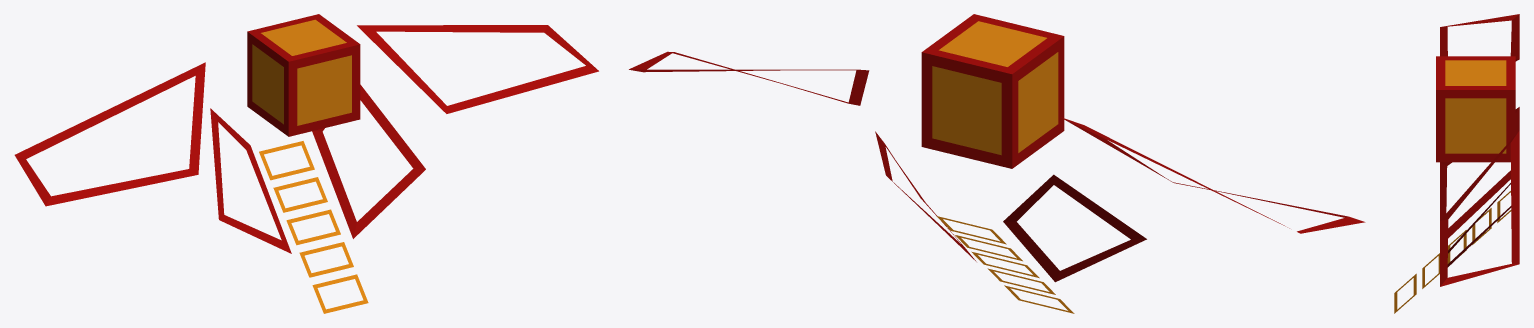
File: enemy1.FBX
The picture shows the model from 3 angles, left to right: view 1: azimuth 30°, elevation 25°; view 2: azimuth 150°, elevation 25°; view 3: azimuth 270°, elevation 25°; orthographic projection. The views are drawn at different scales.
Parts seen in each view (by area): view 1: Plane001, Box001, Object001; view 2: Box001, Plane001, Object001; view 3: Box001, Plane001, Object001.
Part boxes in pixels (box(x1,y1,x2,y2)): Plane001: box(14, 25, 598, 253); Box001: box(247, 14, 360, 136); Object001: box(259, 141, 368, 313); Box001: box(921, 14, 1064, 168); Plane001: box(629, 51, 1365, 282); Object001: box(936, 216, 1074, 313); Box001: box(1436, 56, 1515, 162); Plane001: box(1440, 14, 1519, 286); Object001: box(1394, 191, 1511, 313).
Size of the model in its own units: 154 by 63.8 by 31.45.
